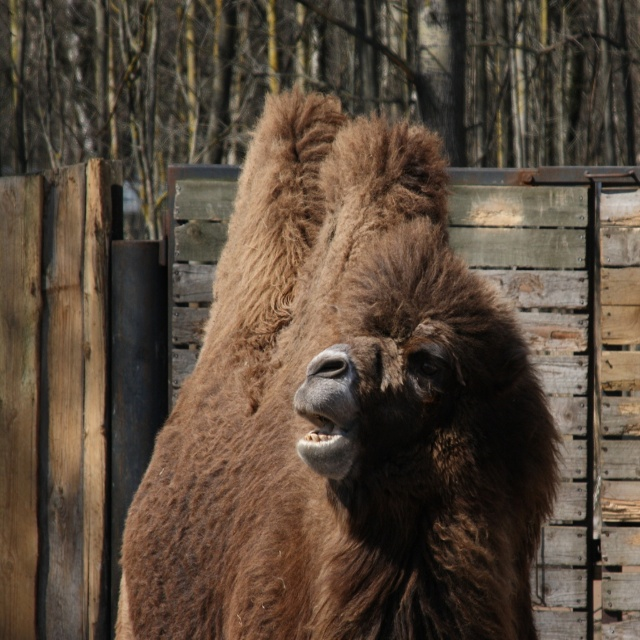Camel: (114, 80, 570, 639)
